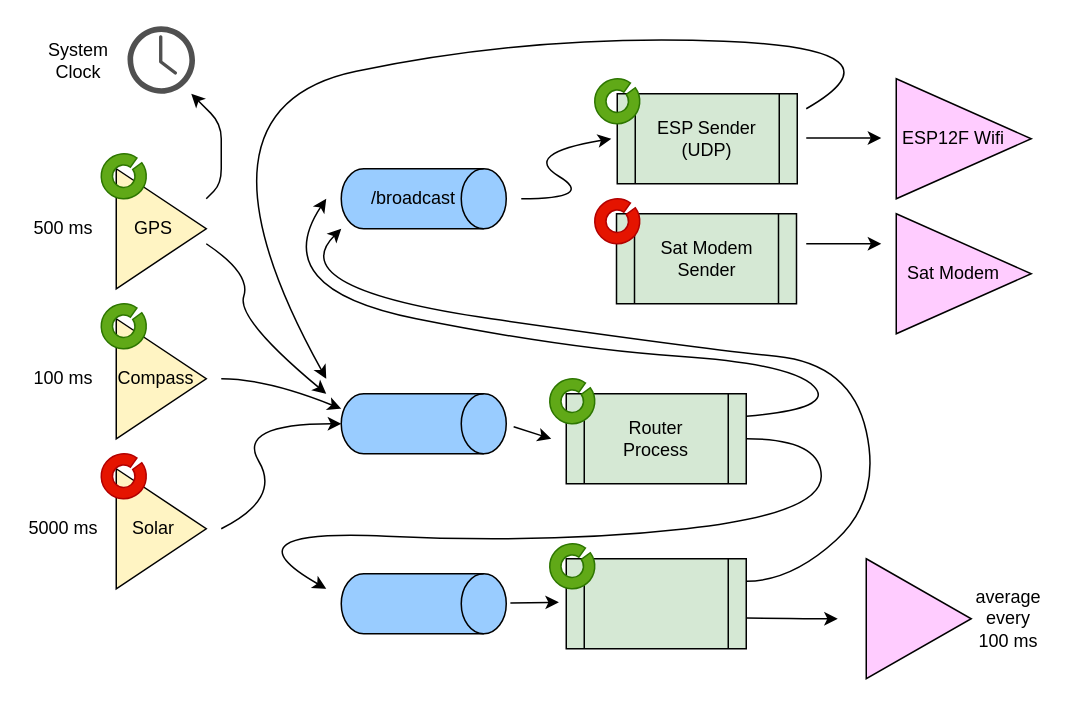
Image size: 1071x705. Some labels were removed from this diagram. The box of each missing label's shape, as (x1, y1, x2, y2) in pixels:
/snapshot: (340, 572, 506, 634)
/telemerty: (340, 392, 506, 454)
Auto Pilot Process: (565, 557, 746, 649)
Thrusters: (865, 557, 971, 679)
